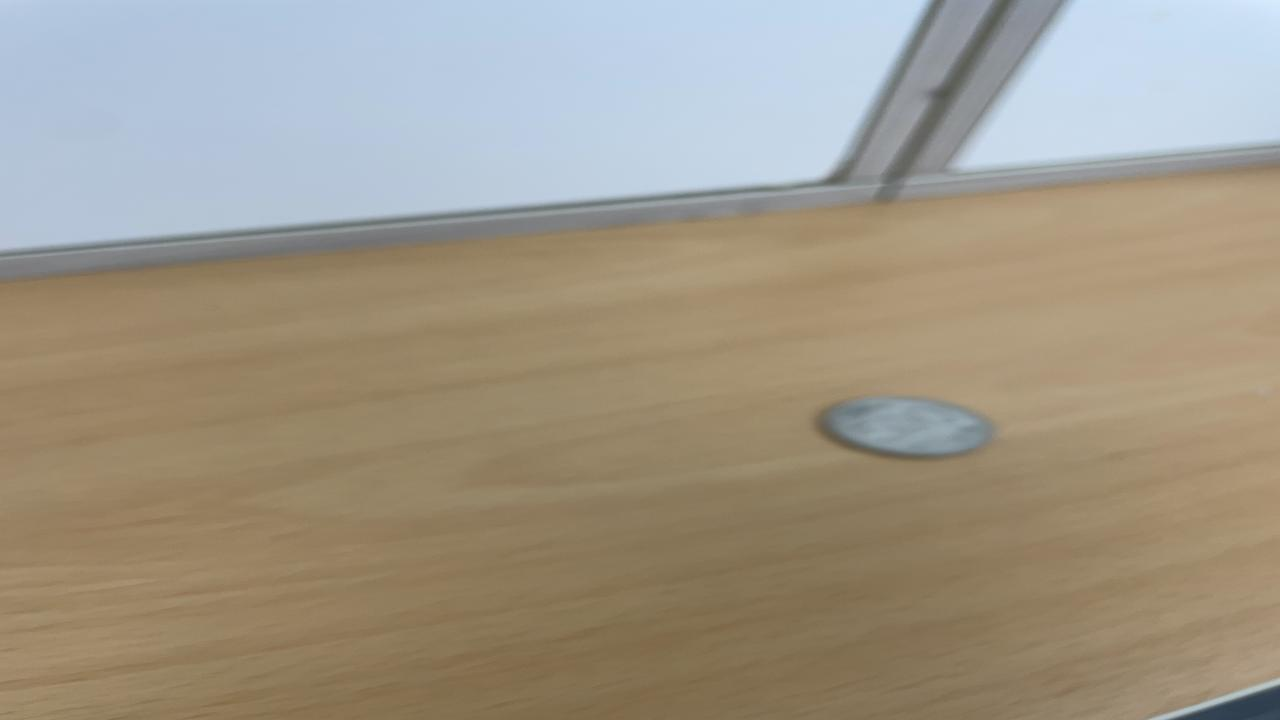coin: (812, 392, 998, 460)
